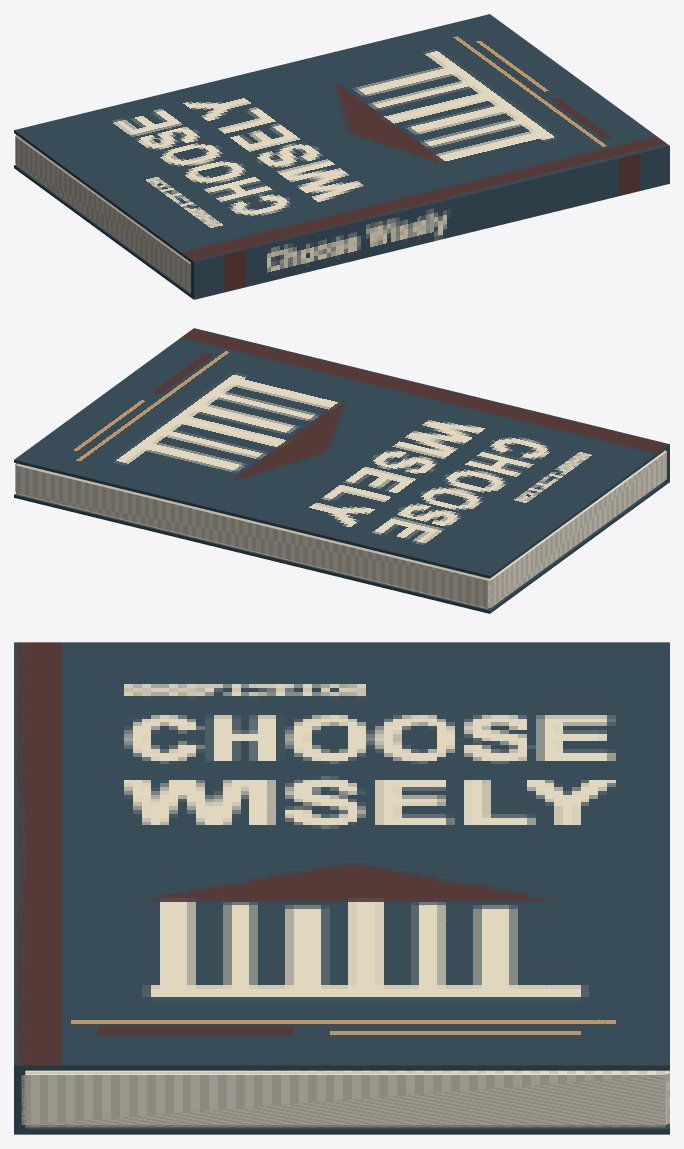
File: book_anthology_cw.glb
3 renders of one model, top to bottom at view 1: azimuth 30°, elevation 25°; view 2: azimuth 150°, elevation 25°; view 3: azimuth 270°, elevation 25°, orthographic. The views are drawn at different scales.
Parts seen in each view (by area): view 1: block_front, block_spine, block_pages, block_back; view 2: block_front, block_pages, block_back, block_spine; view 3: block_front, block_pages, block_back, block_spine.
Boxes of the visible parts, <box> form: block_front: <box>14,14,666,263</box>; block_spine: <box>191,143,669,299</box>; block_pages: <box>15,135,191,292</box>; block_back: <box>14,165,193,298</box>; block_front: <box>14,328,669,578</box>; block_pages: <box>15,450,666,609</box>; block_back: <box>14,480,669,613</box>; block_spine: <box>192,328,669,482</box>; block_front: <box>17,642,669,1070</box>; block_pages: <box>21,1070,669,1127</box>; block_back: <box>17,1123,669,1134</box>; block_spine: <box>14,642,25,1134</box>.
Bounding box in the file's own units: 0.2 × 0.0152 × 0.131.
1 material, 1 textured.
